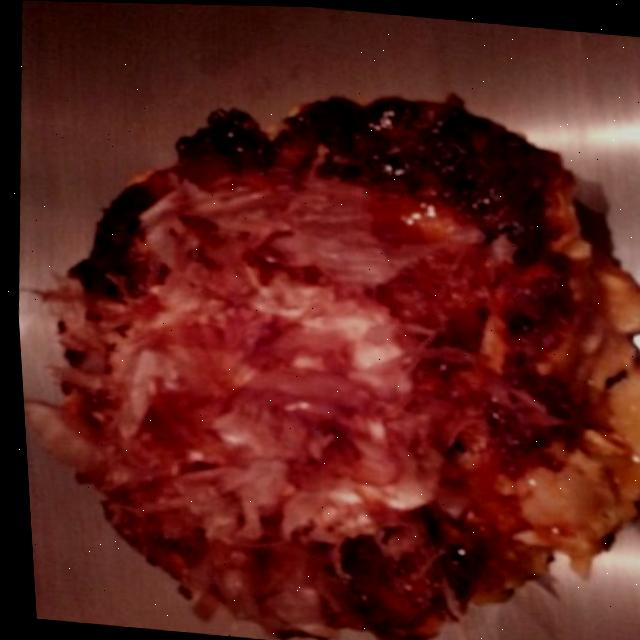蛋糕甜品: (7, 57, 640, 640)
